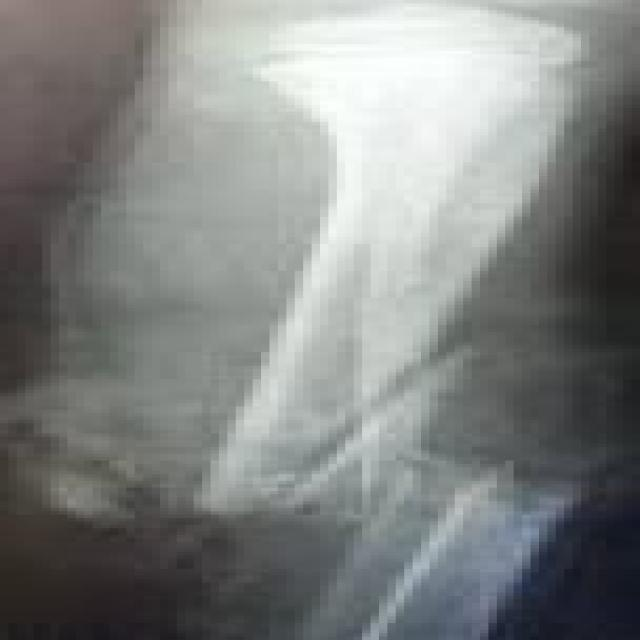Broken: (185, 74, 584, 503), (297, 464, 594, 640)
